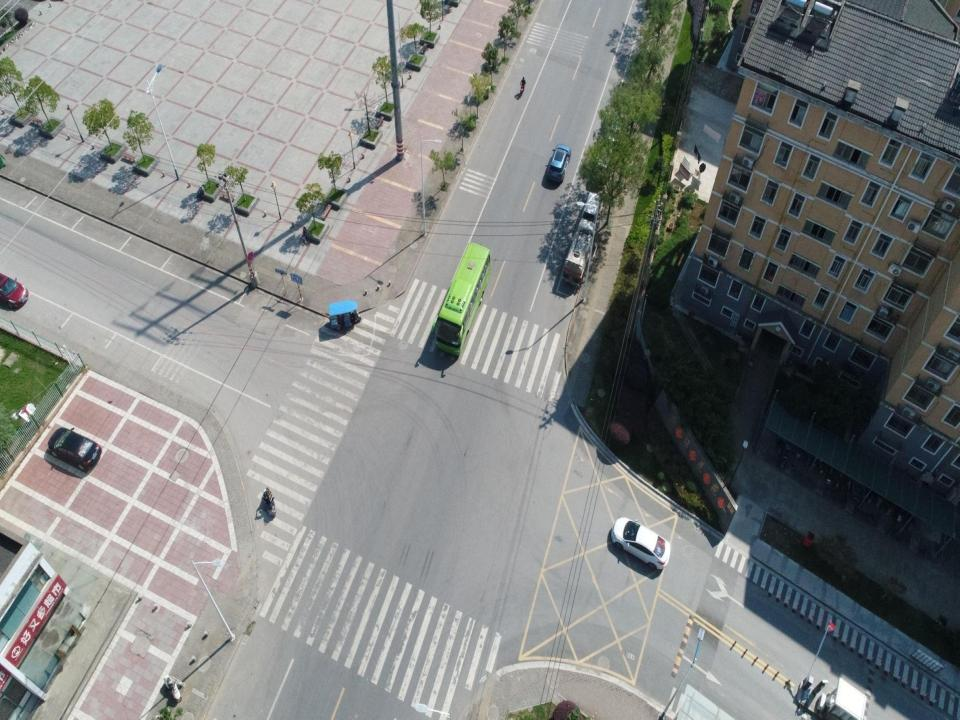bus: (432, 242, 491, 356)
car: (610, 517, 671, 570), (47, 427, 102, 473), (0, 273, 29, 311), (546, 144, 571, 184), (608, 111, 625, 143), (595, 144, 613, 170)
truck: (563, 217, 596, 281)
van: (580, 190, 600, 227)
